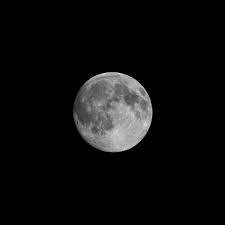moon: (71, 67, 158, 156)
